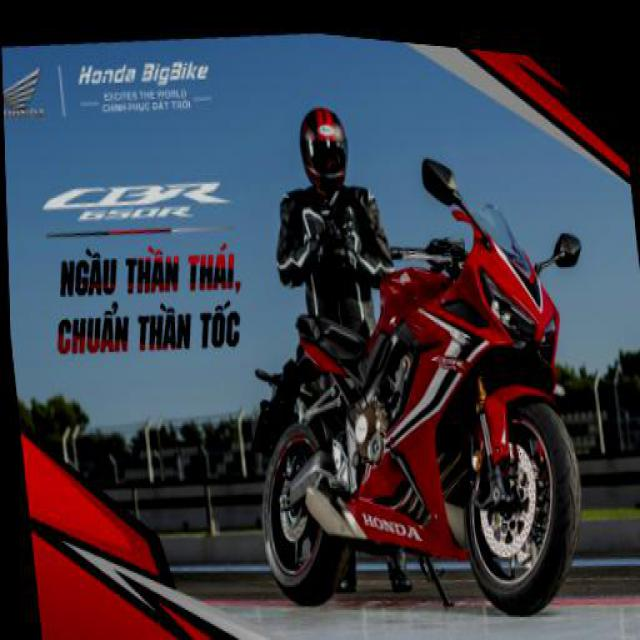CBR500R: (227, 157, 595, 638)
